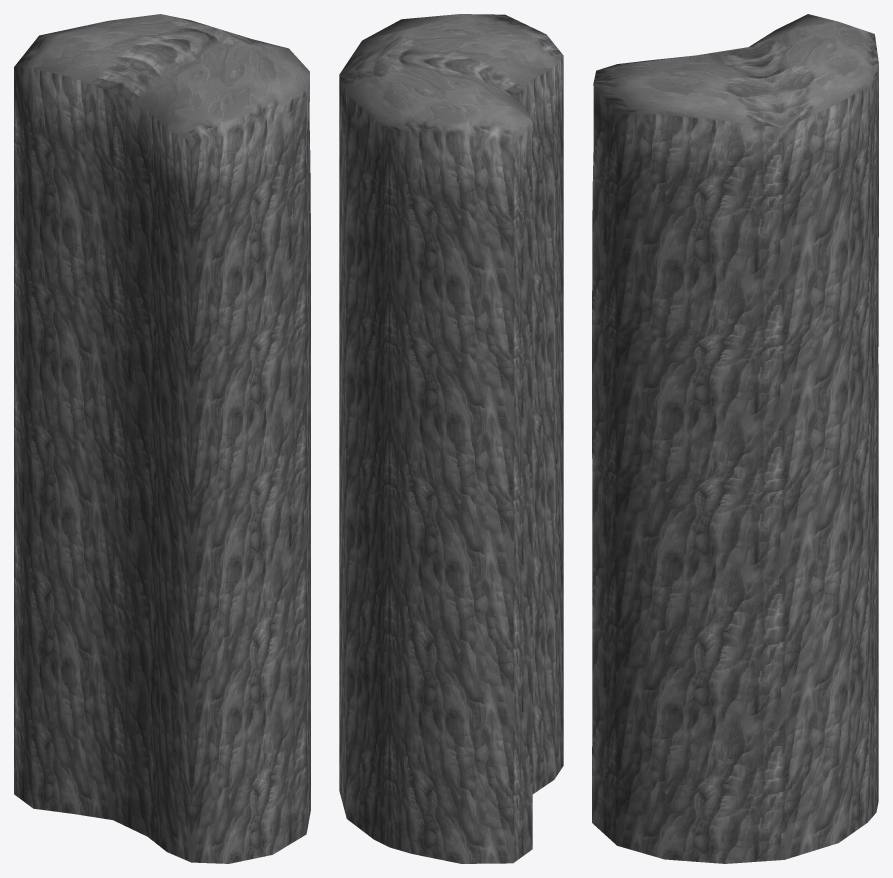
File: SWORDLIGHT20_PS-AREA01 PLATFORM02.fbx
3 renders of one model, left to right at view 1: azimuth 30°, elevation 25°; view 2: azimuth 150°, elevation 25°; view 3: azimuth 270°, elevation 25°, orthographic. The views are drawn at different scales.
Parts seen in each view (by area): view 1: SWORDLIGHT20_PS-AREA01 PLATFORM02; view 2: SWORDLIGHT20_PS-AREA01 PLATFORM02; view 3: SWORDLIGHT20_PS-AREA01 PLATFORM02.
Part boxes in pixels (x1,y1,x2,y2): SWORDLIGHT20_PS-AREA01 PLATFORM02: (14, 14, 310, 863); SWORDLIGHT20_PS-AREA01 PLATFORM02: (339, 14, 563, 863); SWORDLIGHT20_PS-AREA01 PLATFORM02: (592, 14, 878, 863).
Bounding box in the file's own units: 74840 × 250829 × 85708.
Materials: 2 (2 with a texture image).
